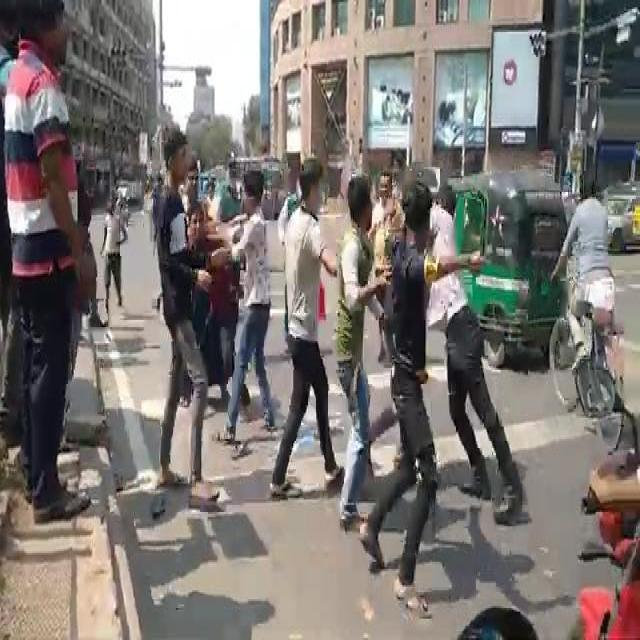fight: (334, 156, 498, 532), (0, 0, 94, 530), (165, 117, 274, 487)
